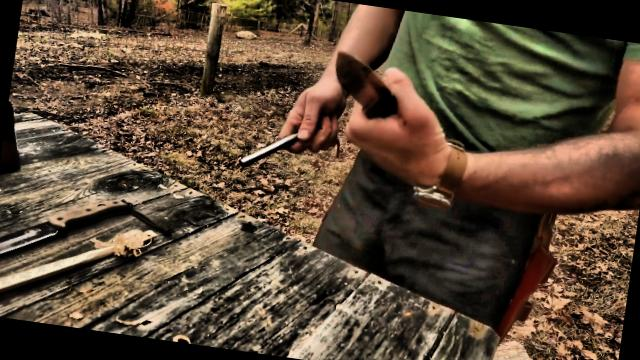knife: (319, 39, 432, 161)
